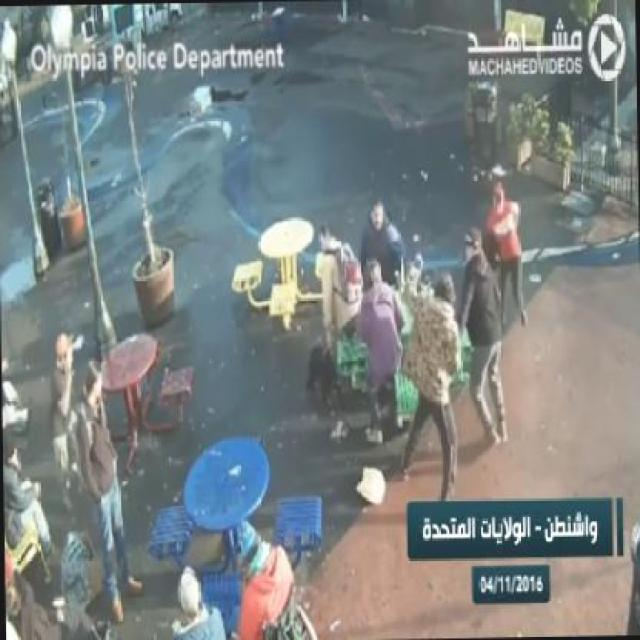fight: (398, 226, 508, 497)
